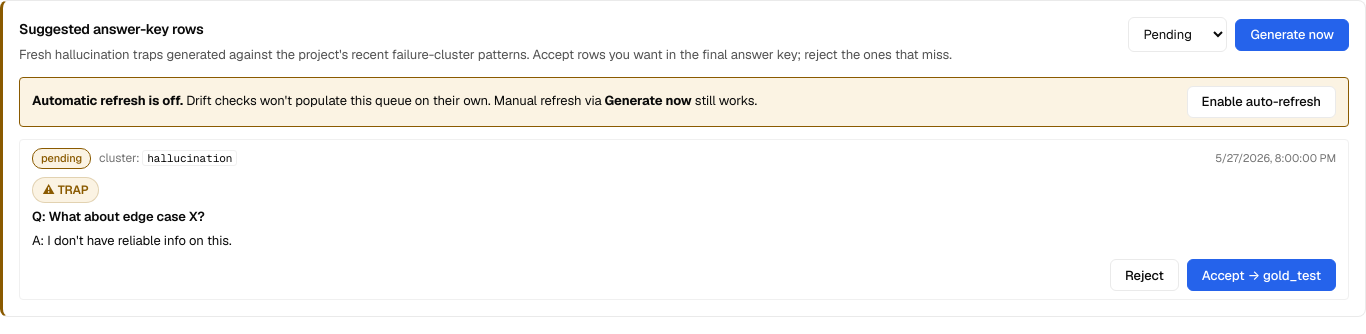
DriftReviewQueuePanel › Accept triages a row → POST + queue reloaded without the row
Expected: the list item with test id "drift-review-row-99" is shown, [19, 138, 1349, 300]
Click the button with test id "drift-review-row-99-accept" at (1261, 275), box [1187, 259, 1336, 291]
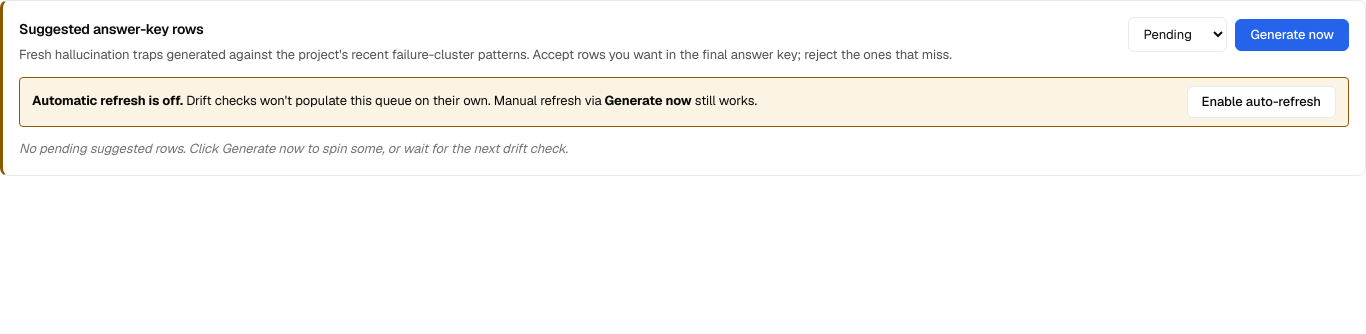
Expected: the list item with test id "drift-review-row-99" is gone
